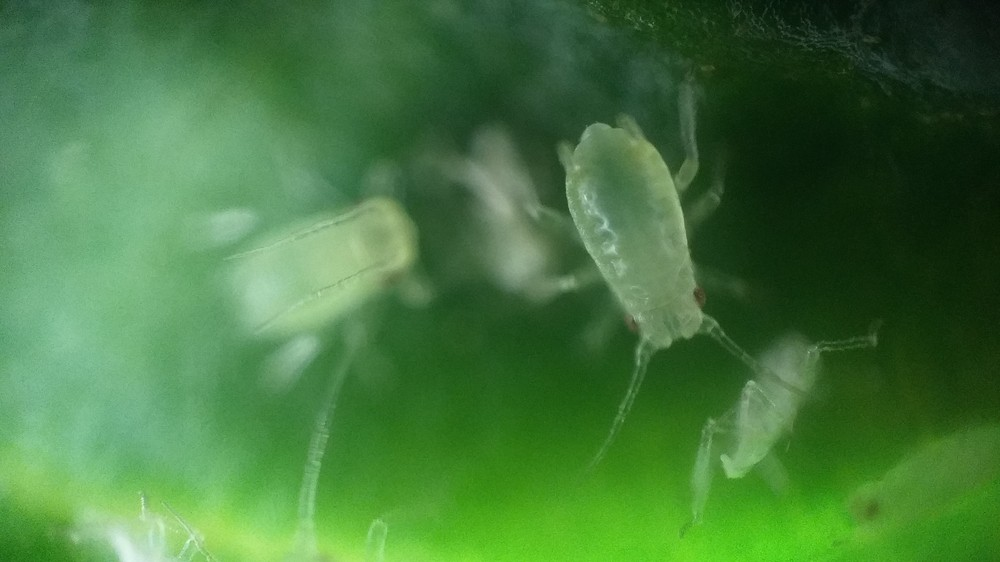Pulgon: (493, 111, 846, 462)
